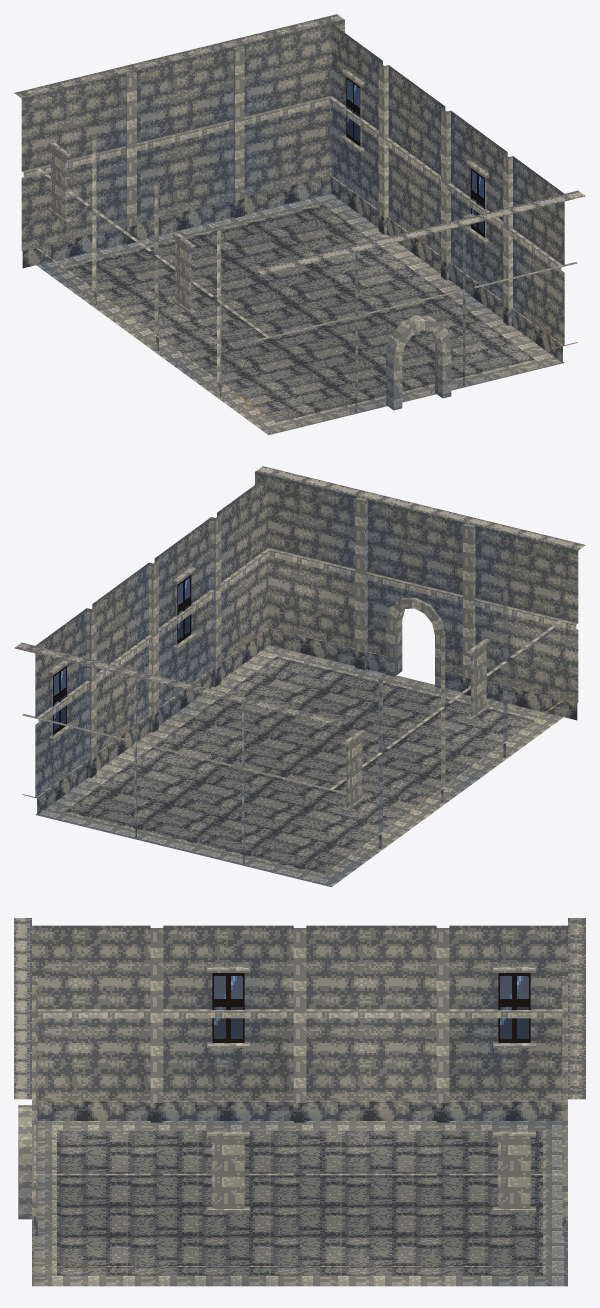
File: cst.hall__great.glb
3 views of the same model, one above another, from view 1: azimuth 30°, elevation 25°; view 2: azimuth 150°, elevation 25°; view 3: azimuth 270°, elevation 25° (orthographic). The views are drawn at different scales.
Visible parts, largest first — view 1: kit_shell_walls, kit_shell_floor, kit_fittings; view 2: kit_shell_walls, kit_shell_floor, kit_fittings; view 3: kit_shell_walls, kit_shell_floor, kit_fittings.
Part boxes in pixels (<box>): kit_shell_walls: <box>14,14,585,421</box>; kit_shell_floor: <box>36,193,564,435</box>; kit_fittings: <box>48,69,488,410</box>; kit_shell_walls: <box>14,466,585,873</box>; kit_shell_floor: <box>35,645,563,887</box>; kit_fittings: <box>49,567,489,812</box>; kit_shell_walls: <box>14,918,585,1274</box>; kit_shell_floor: <box>32,1121,567,1286</box>; kit_fittings: <box>18,966,535,1219</box>.
Size of the model in its own units: 12 by 6 by 16.
Materials: 5 (5 with a texture image).
